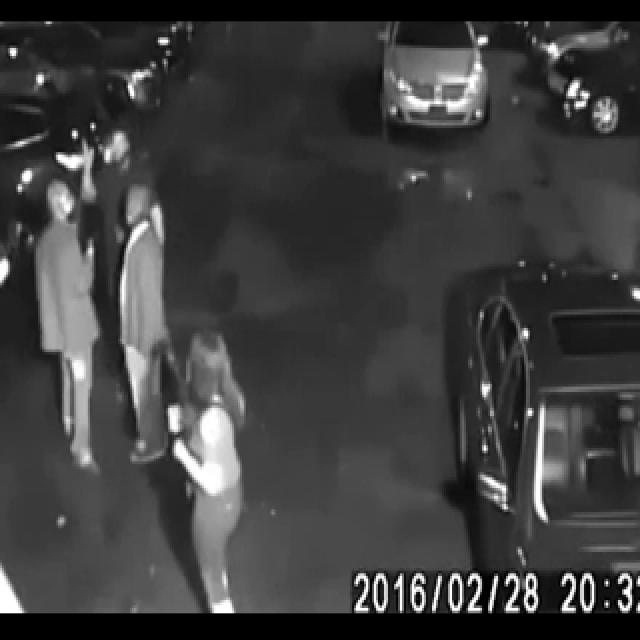shooting: (38, 88, 347, 640)
